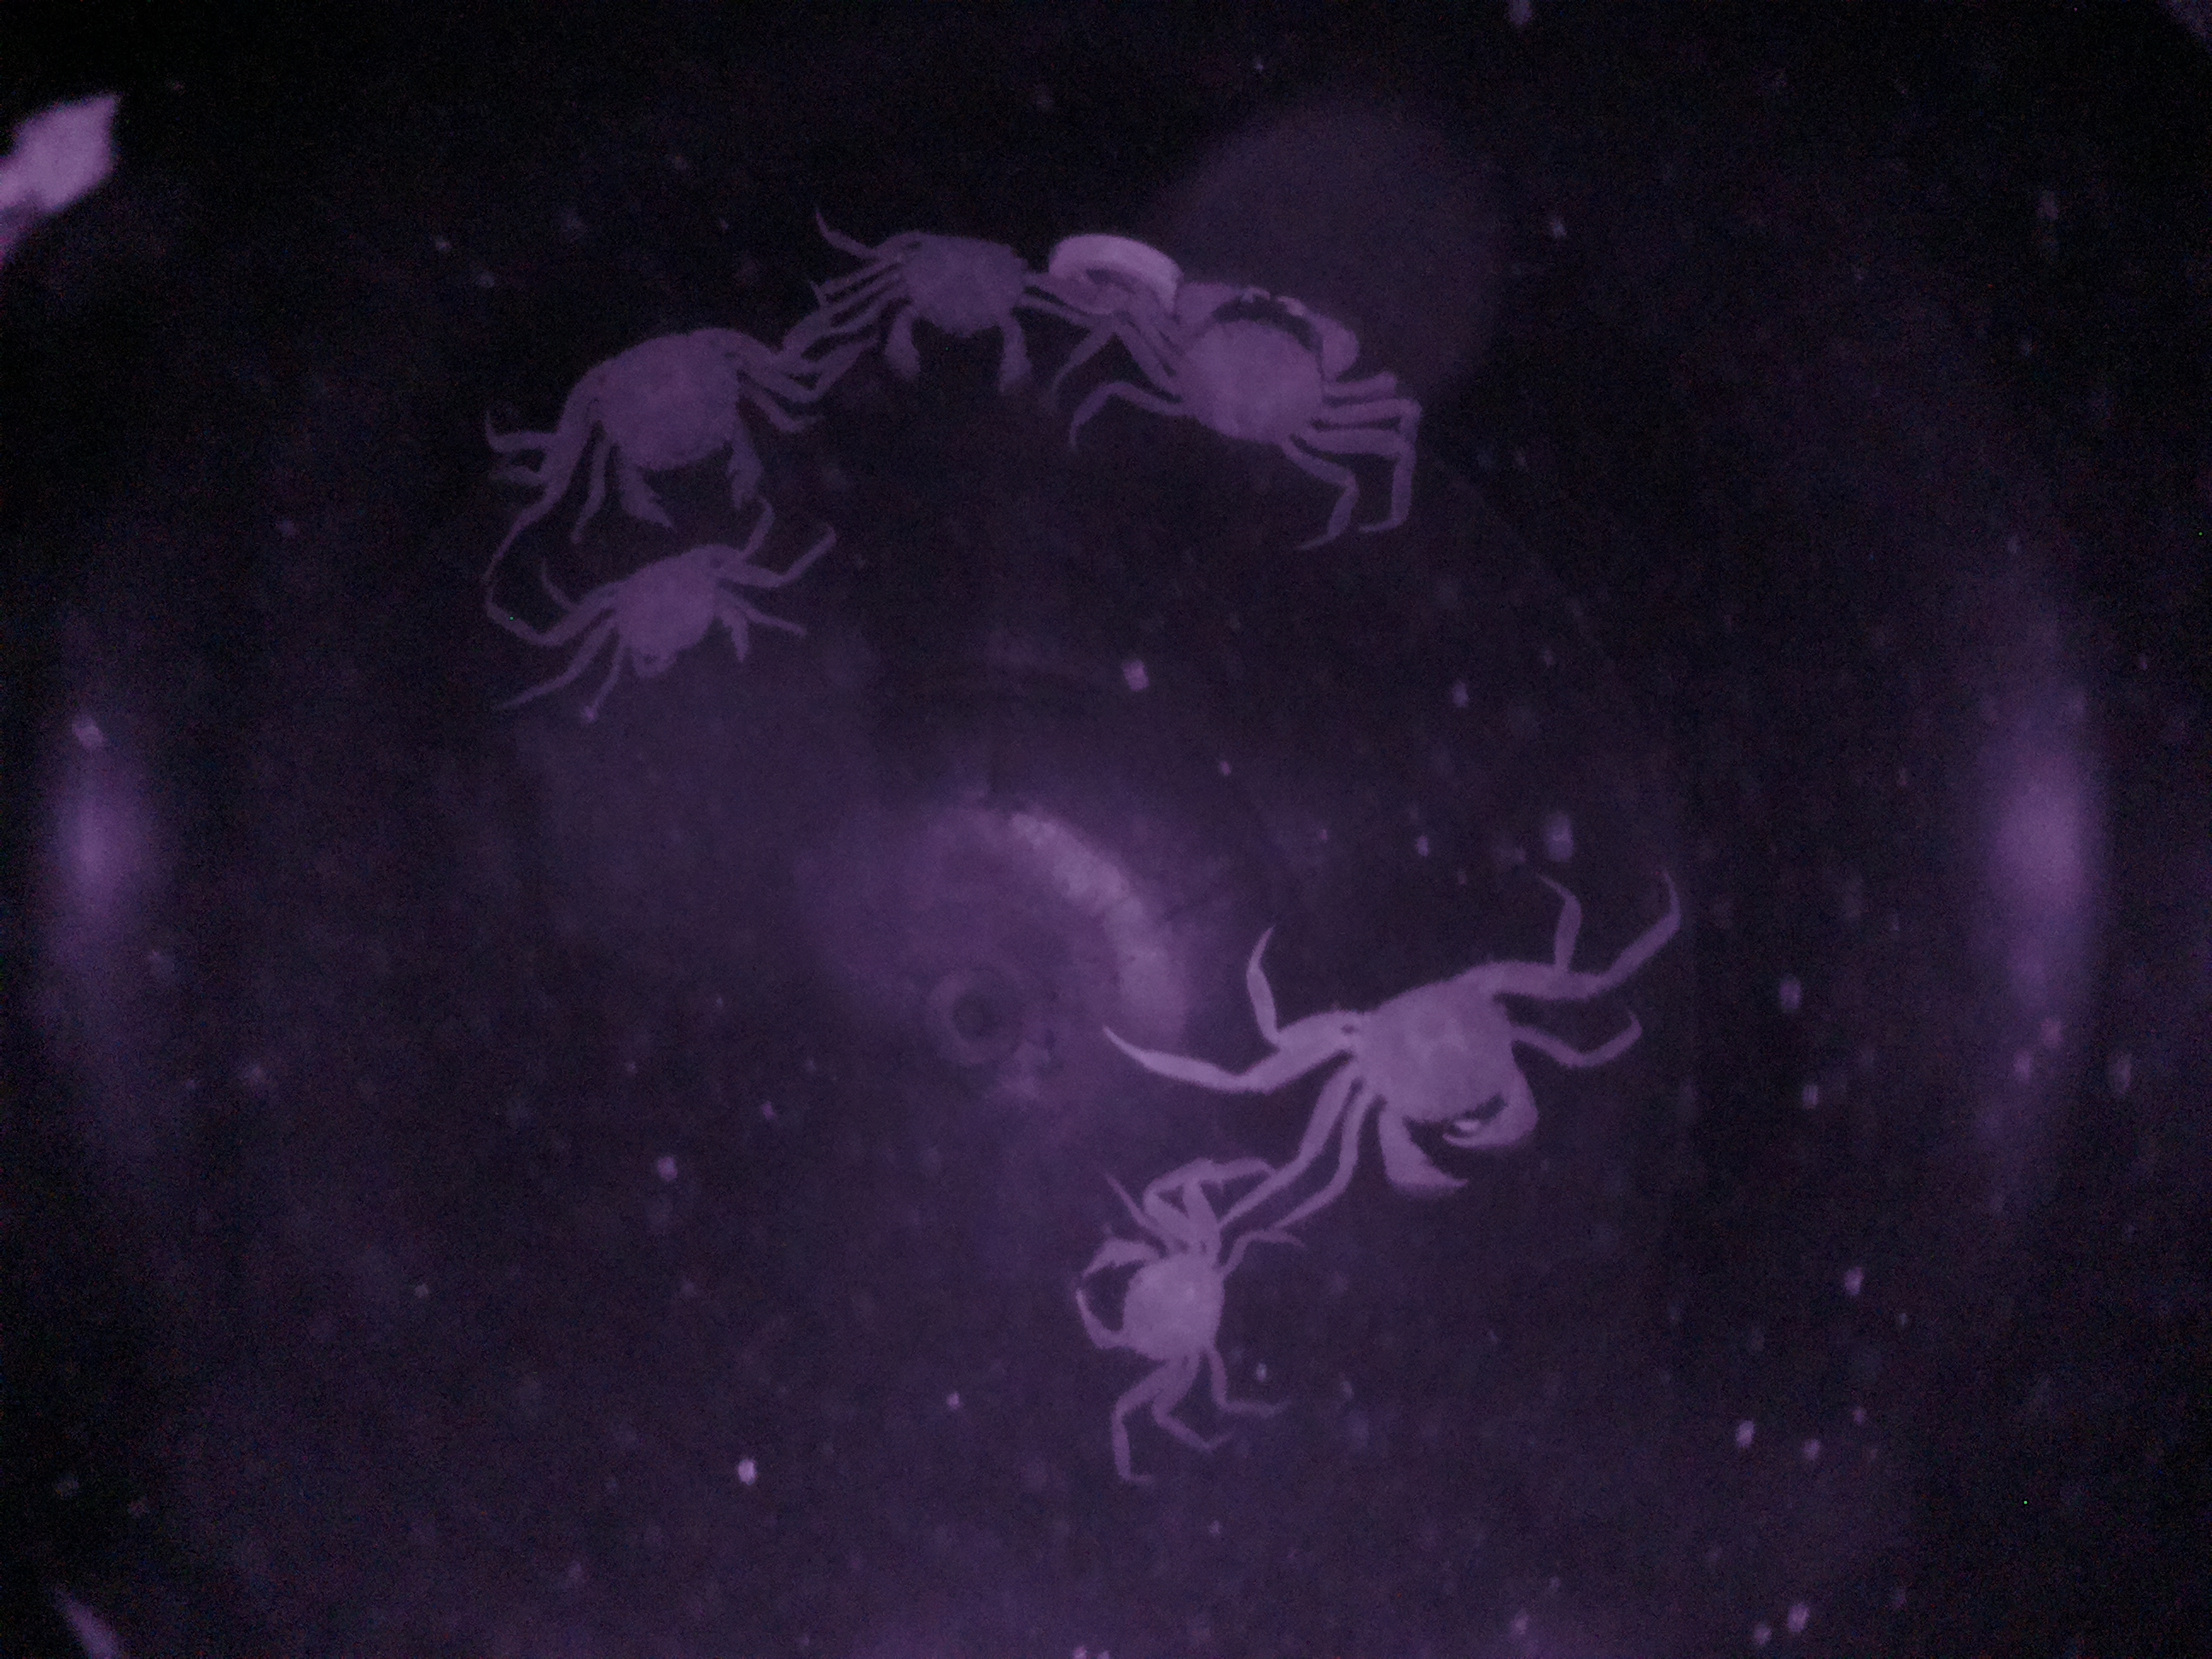Crab: (1292, 936, 1552, 1204), (547, 308, 773, 521), (1137, 272, 1367, 471), (859, 216, 1061, 413), (1055, 1206, 1261, 1389), (575, 521, 759, 708)
